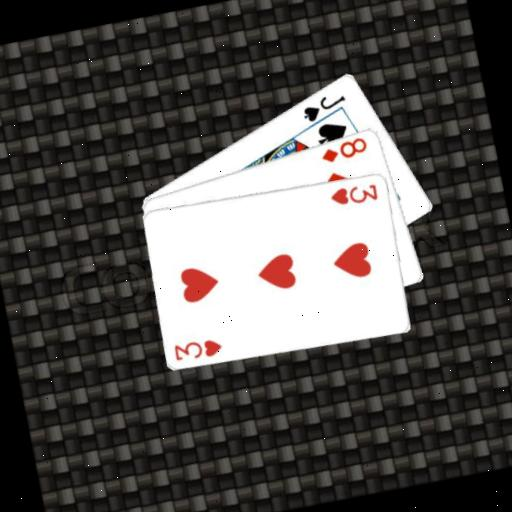3H: (326, 178, 380, 211), (171, 333, 225, 365)
8D: (316, 133, 371, 166)
JS: (298, 89, 351, 125)
